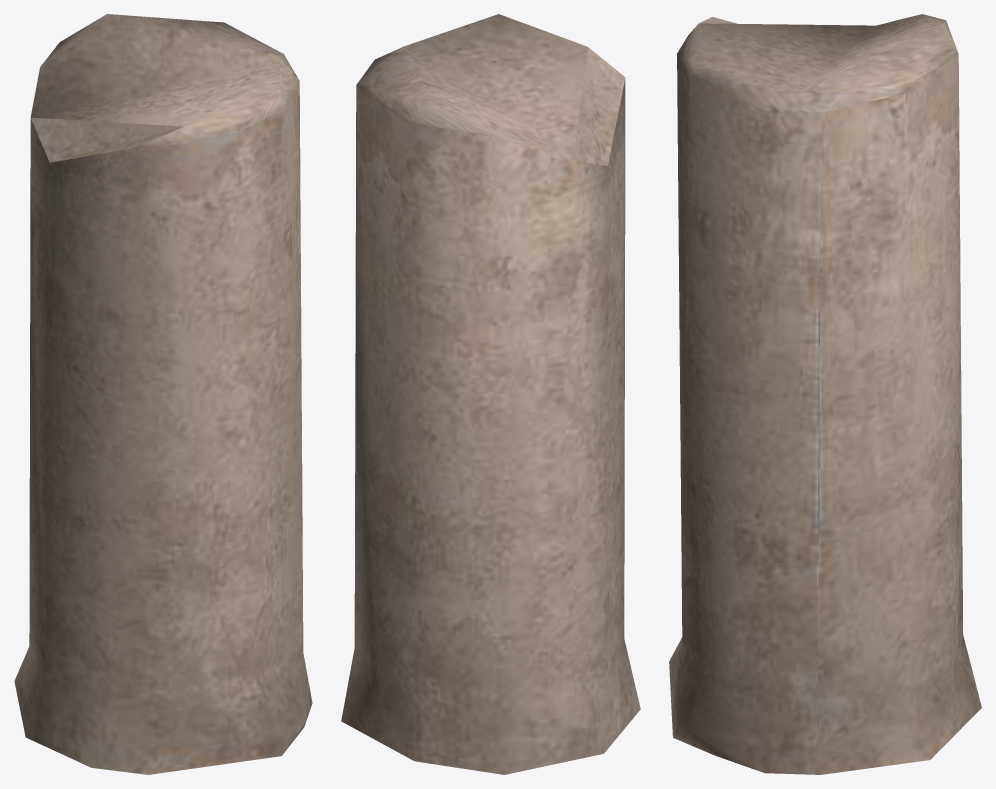
Rendered from mesh_BrokenPillar_a.fbx.
3 views of the same model, side by side, from view 1: azimuth 30°, elevation 25°; view 2: azimuth 150°, elevation 25°; view 3: azimuth 270°, elevation 25° (orthographic). The views are drawn at different scales.
Parts seen in each view (by area): view 1: BrokenPillar_a; view 2: BrokenPillar_a; view 3: BrokenPillar_a.
Boxes of the visible parts, bbox=[...] form: BrokenPillar_a: bbox=[14, 14, 312, 774]; BrokenPillar_a: bbox=[341, 14, 640, 774]; BrokenPillar_a: bbox=[669, 14, 981, 774].
Size of the model in its own units: 56.09 by 140 by 57.53.
Materials: 1 (1 with a texture image).
